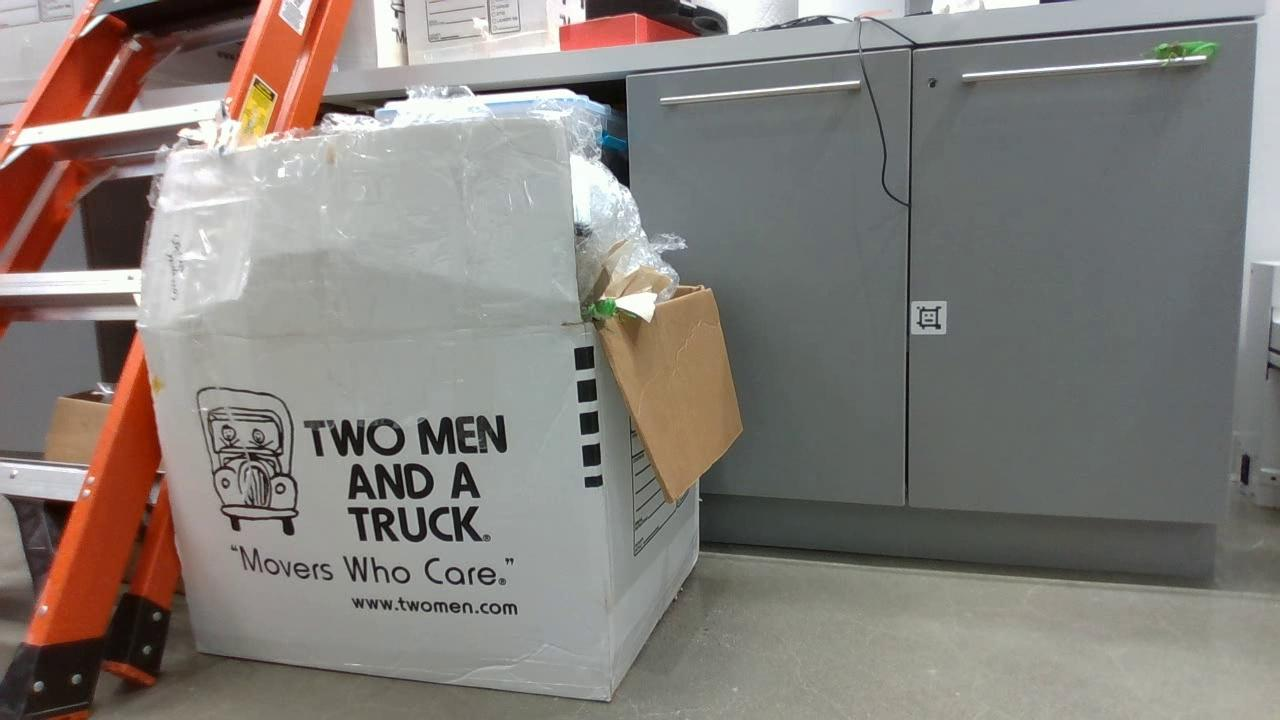grasshopper: (1144, 38, 1217, 70), (581, 295, 623, 324)
